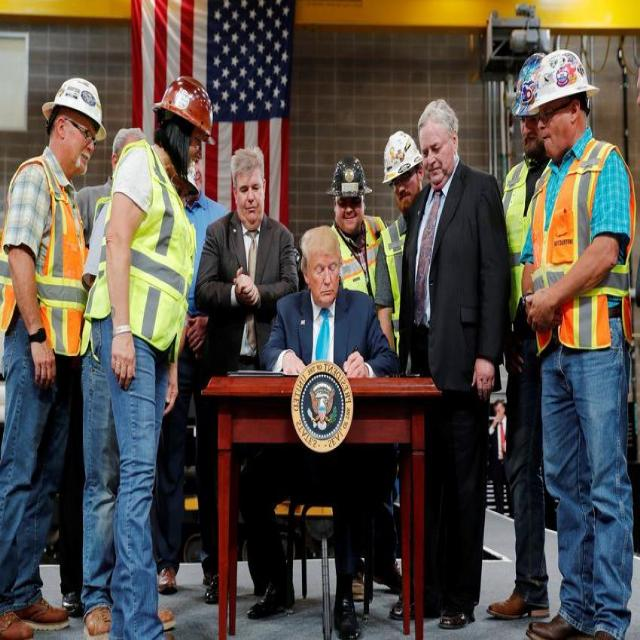Reflective-Jacket: (503, 142, 638, 352), (91, 149, 204, 365), (1, 156, 97, 366), (322, 217, 384, 301)
Safety-Helmet: (151, 70, 218, 144), (42, 67, 108, 142), (530, 44, 600, 112), (323, 149, 372, 202), (380, 126, 423, 185)
